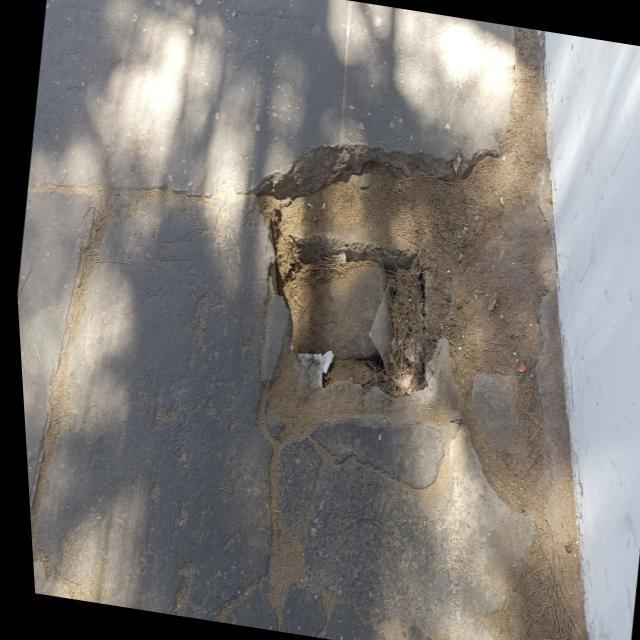hole: (245, 130, 474, 455)
